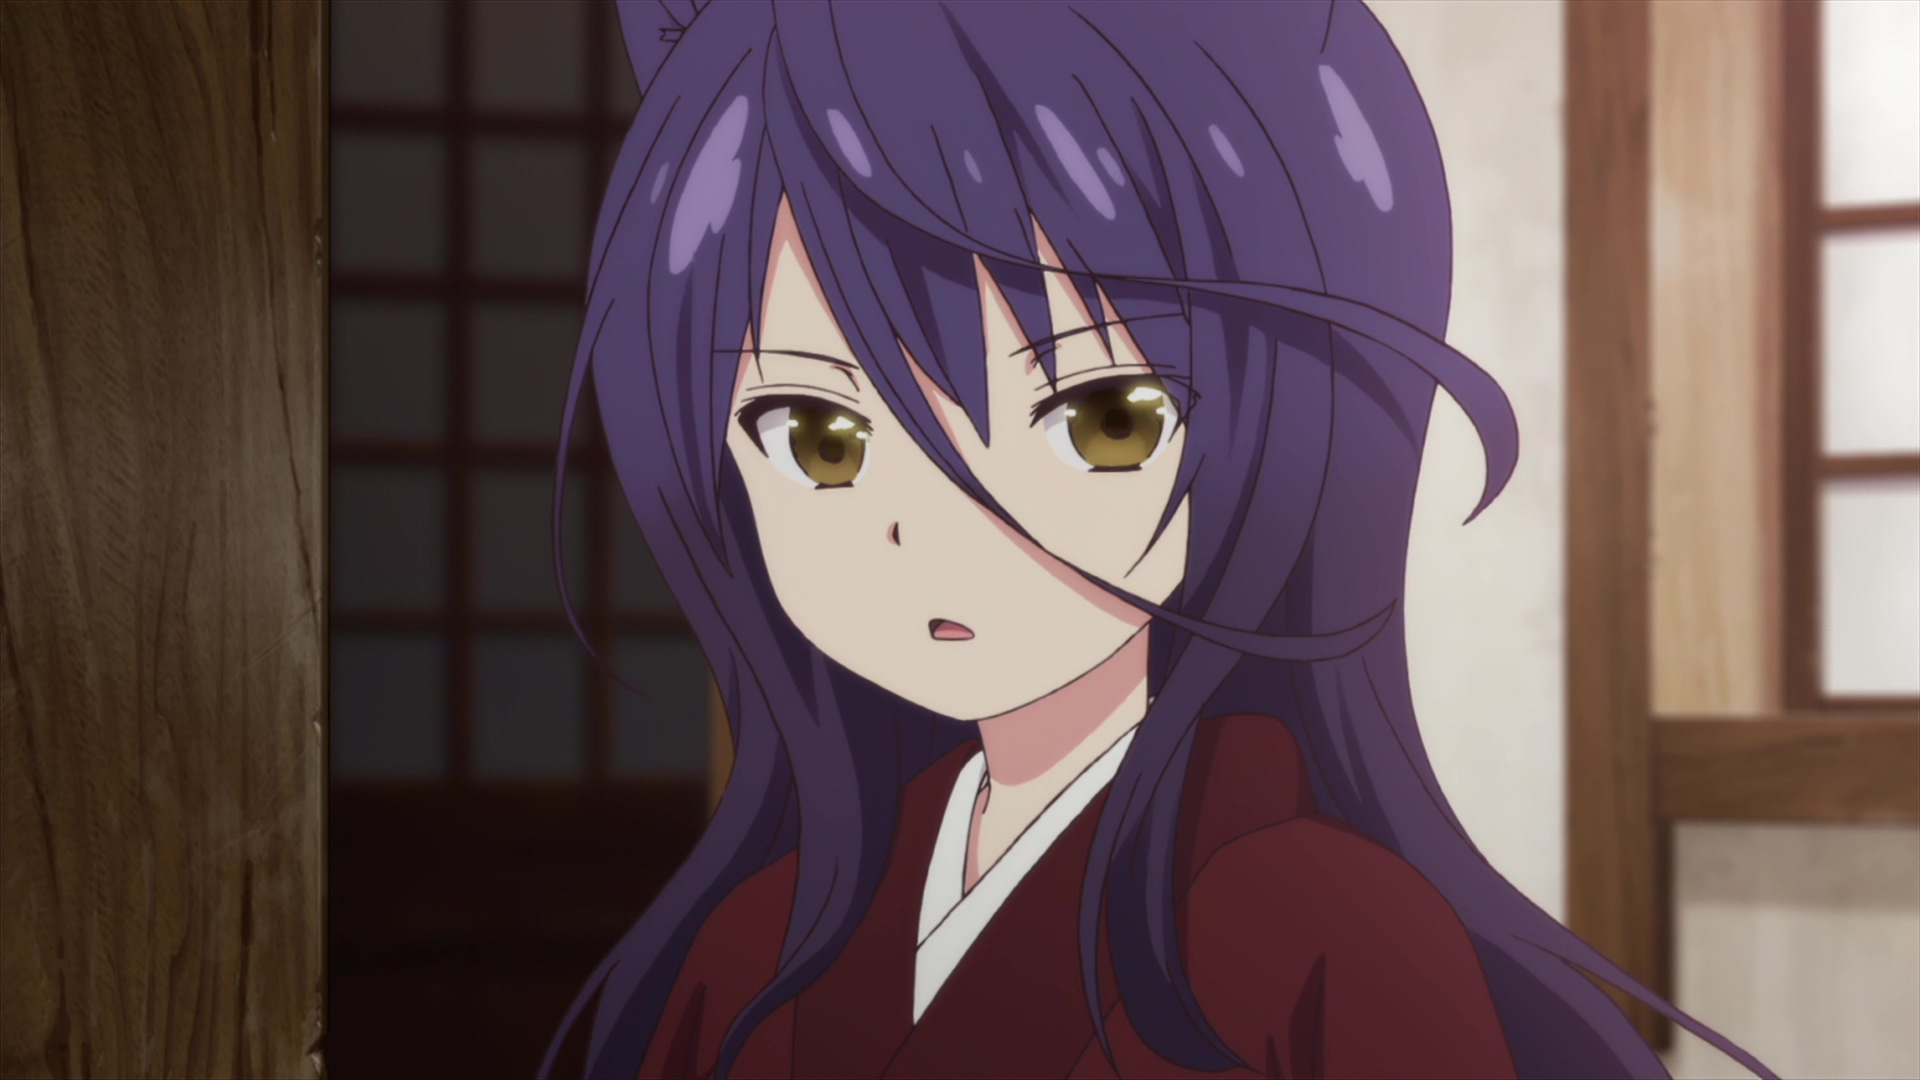皋: (527, 1, 1784, 1080)
